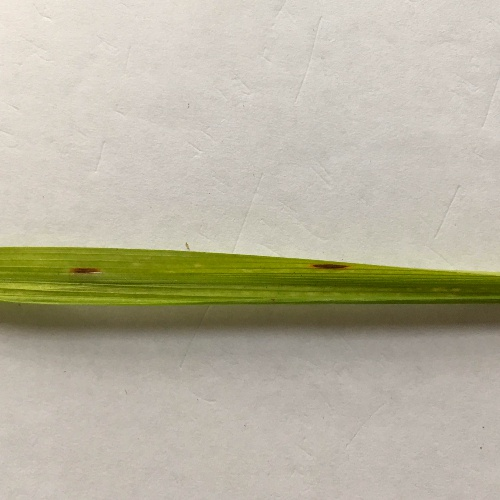Bercak Coklat: (62, 261, 108, 281), (308, 260, 358, 274)
